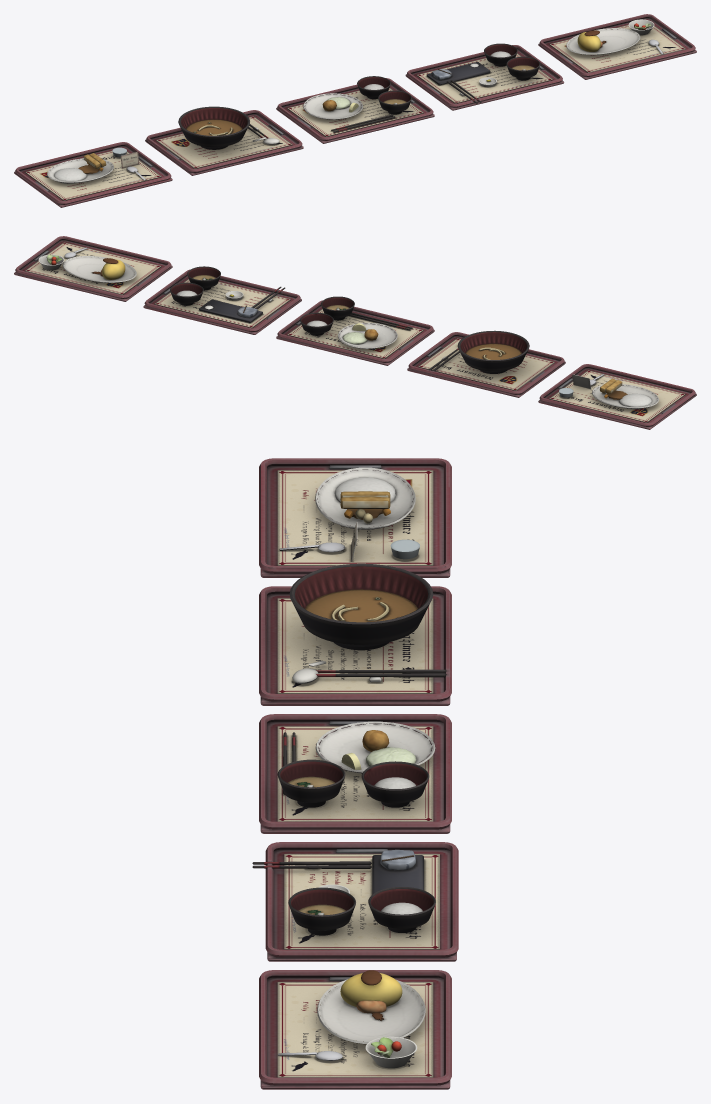
The model's file is ConcessionLunchSets3.fbx.
3 views of the same model, one above another, from view 1: azimuth 30°, elevation 25°; view 2: azimuth 150°, elevation 25°; view 3: azimuth 270°, elevation 25° (orthographic). The views are drawn at different scales.
Visible parts, largest first — view 1: ConcessionLunchSets3_ShoyuRamen, ConcessionLunchSets3_KaraageSet, ConcessionLunchSets3_MackerelSet, ConcessionLunchSets3_Omurice, ConcessionLunchSets3_KatsuCurry; view 2: ConcessionLunchSets3_ShoyuRamen, ConcessionLunchSets3_KaraageSet, ConcessionLunchSets3_MackerelSet, ConcessionLunchSets3_Omurice, ConcessionLunchSets3_KatsuCurry; view 3: ConcessionLunchSets3_ShoyuRamen, ConcessionLunchSets3_MackerelSet, ConcessionLunchSets3_KaraageSet, ConcessionLunchSets3_Omurice, ConcessionLunchSets3_KatsuCurry.
Part boxes in pixels (x1,y1,x2,y2): ConcessionLunchSets3_ShoyuRamen: (145,106,303,175); ConcessionLunchSets3_KaraageSet: (276,76,434,143); ConcessionLunchSets3_MackerelSet: (405,43,564,110); ConcessionLunchSets3_Omurice: (538,14,696,79); ConcessionLunchSets3_KatsuCurry: (14,142,172,207); ConcessionLunchSets3_ShoyuRamen: (407,330,565,397); ConcessionLunchSets3_KaraageSet: (276,296,434,365); ConcessionLunchSets3_MackerelSet: (143,266,301,334); ConcessionLunchSets3_Omurice: (14,236,172,301); ConcessionLunchSets3_KatsuCurry: (538,364,696,429); ConcessionLunchSets3_ShoyuRamen: (259,563,451,705); ConcessionLunchSets3_MackerelSet: (252,842,458,961); ConcessionLunchSets3_KaraageSet: (259,714,451,833); ConcessionLunchSets3_Omurice: (259,970,451,1089); ConcessionLunchSets3_KatsuCurry: (259,458,451,577).
Size of the model in its own units: 738 by 28 by 103.
